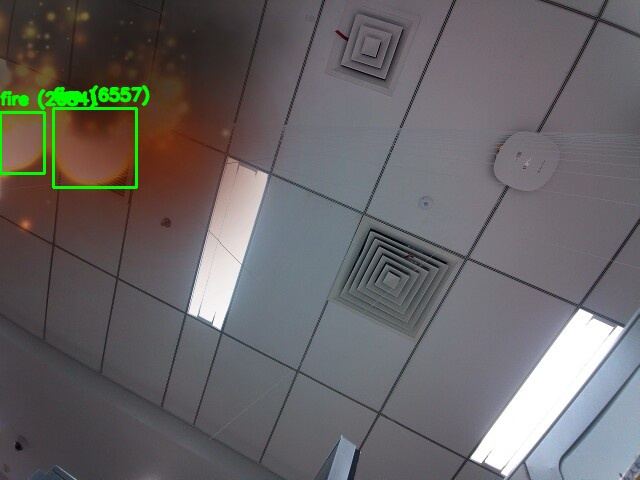fire: (53, 108, 136, 187), (0, 112, 44, 173)
